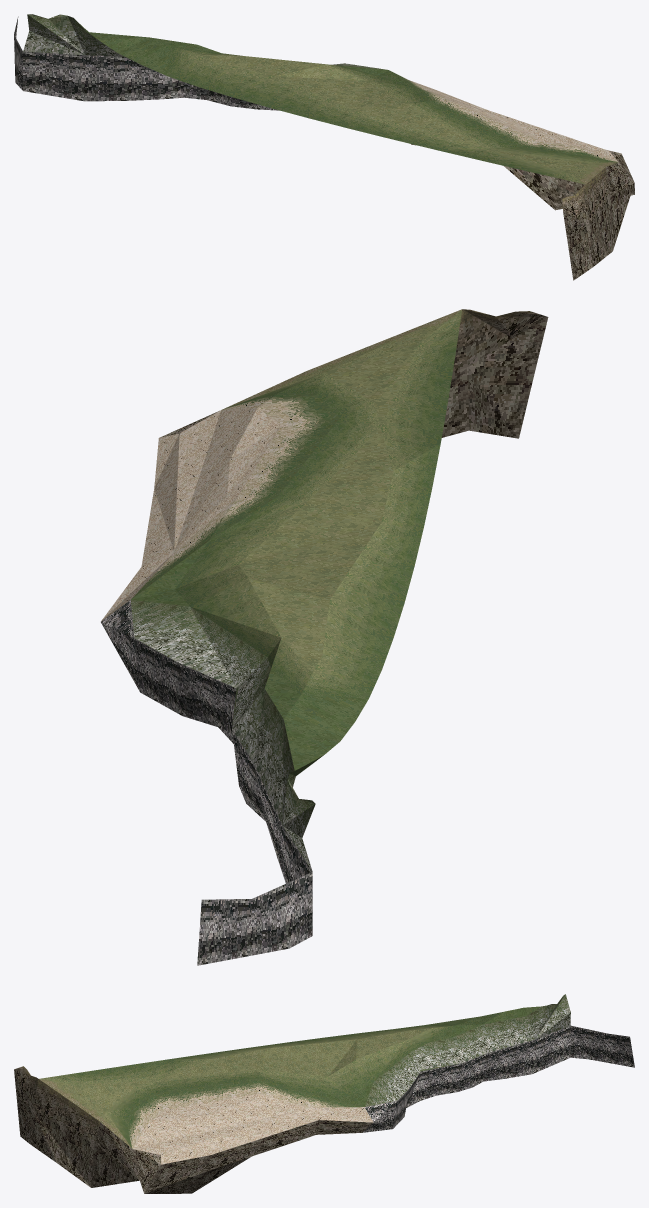
Rendered from lodcunteground08.obj.
3 renders of one model, top to bottom at view 1: azimuth 30°, elevation 25°; view 2: azimuth 150°, elevation 25°; view 3: azimuth 270°, elevation 25°, orthographic. The views are drawn at different scales.
Parts seen in each view (by area): view 1: LODcuntEground08; view 2: LODcuntEground08; view 3: LODcuntEground08.
Part boxes in pixels (bbox=[...]): LODcuntEground08: bbox=[14, 14, 634, 280]; LODcuntEground08: bbox=[101, 309, 548, 965]; LODcuntEground08: bbox=[14, 994, 634, 1193].
Size of the model in its own units: 213 by 64.26 by 404.
Materials: 10 (10 with a texture image).
